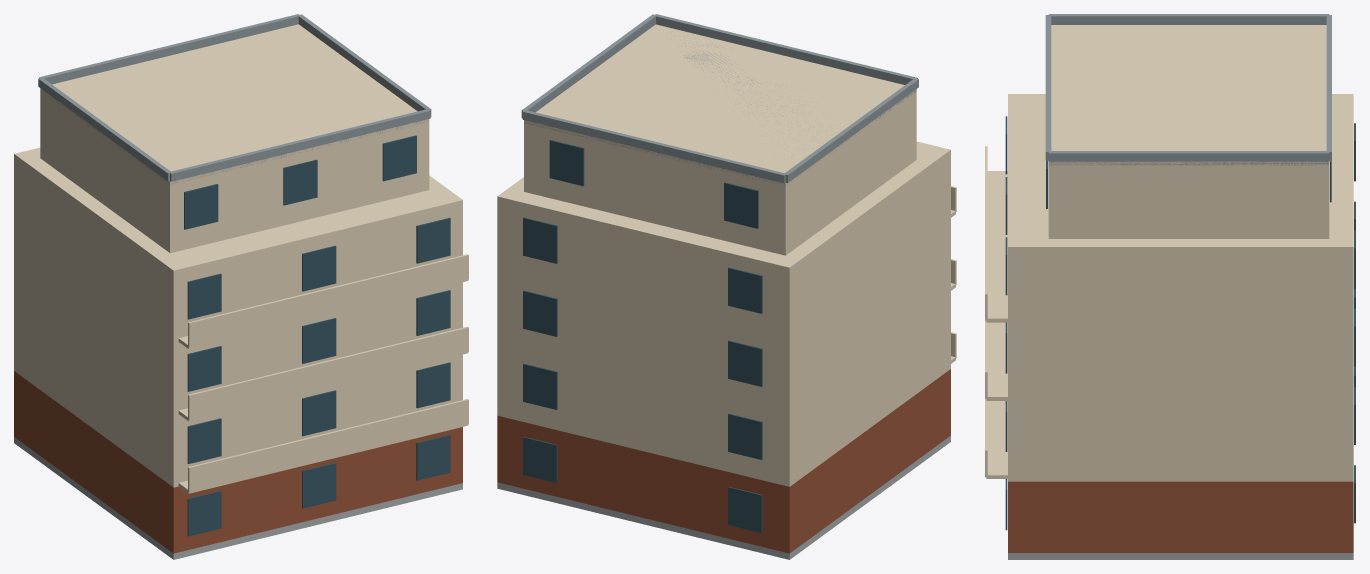
Rendered from apartment-midrise.glb.
3 renders of one model, left to right at view 1: azimuth 30°, elevation 25°; view 2: azimuth 150°, elevation 25°; view 3: azimuth 270°, elevation 25°, orthographic. The views are drawn at different scales.
Visible parts, largest first — view 1: apartment-main-wall, recessed-top-wall, brick-ground-floor, balcony-02-balustrade, balcony-01-balustrade, balcony-03-balustrade, ground-contact-plinth, parapet-front, parapet-rear, parapet-west, parapet-east, opening-front-apartment-01-02 (+17 smaller); view 2: apartment-main-wall, recessed-top-wall, brick-ground-floor, ground-contact-plinth, parapet-rear, parapet-front, parapet-west, parapet-east, opening-rear-apartment-05-02, opening-rear-apartment-04-01, opening-rear-apartment-04-02, opening-rear-apartment-02-01 (+7 smaller); view 3: apartment-main-wall, recessed-top-wall, brick-ground-floor, parapet-east, balcony-03-slab, parapet-west, ground-contact-plinth, balcony-02-slab, balcony-01-slab, parapet-front, roof-flat, parapet-rear (+1 smaller).
Part boxes in pixels (x1,y1,x2,y2): apartment-main-wall: (14, 147, 462, 487); recessed-top-wall: (40, 24, 429, 253); brick-ground-floor: (14, 371, 462, 553); balcony-02-balustrade: (188, 326, 468, 419); balcony-01-balustrade: (188, 399, 468, 492); balcony-03-balustrade: (188, 254, 468, 347); ground-contact-plinth: (14, 437, 462, 559); parapet-front: (170, 109, 430, 181); parapet-rear: (39, 14, 299, 84); parapet-west: (38, 77, 171, 181); parapet-east: (298, 14, 431, 116); opening-front-apartment-01-02: (302, 462, 336, 508); apartment-main-wall: (497, 141, 950, 486); recessed-top-wall: (524, 24, 916, 255); brick-ground-floor: (497, 369, 950, 553); ground-contact-plinth: (497, 436, 950, 559); parapet-rear: (522, 110, 786, 183); parapet-front: (655, 14, 917, 84); parapet-west: (785, 78, 918, 182); parapet-east: (521, 14, 656, 118); opening-rear-apartment-05-02: (549, 140, 584, 186); opening-rear-apartment-04-01: (728, 267, 762, 313); opening-rear-apartment-04-02: (523, 217, 557, 263); opening-rear-apartment-02-01: (728, 413, 762, 459); apartment-main-wall: (1008, 94, 1353, 481); recessed-top-wall: (1048, 25, 1329, 238); brick-ground-floor: (1008, 481, 1353, 552); parapet-east: (1048, 151, 1329, 161); balcony-03-slab: (986, 171, 1007, 322); parapet-west: (1048, 14, 1329, 24); ground-contact-plinth: (1008, 553, 1353, 559); balcony-02-slab: (986, 322, 1007, 400); balcony-01-slab: (986, 401, 1007, 478); parapet-front: (1045, 15, 1051, 160); roof-flat: (1049, 161, 1329, 165); parapet-rear: (1326, 15, 1331, 160).
Size of the model in its own units: 13.4 by 16.35 by 13.74.
